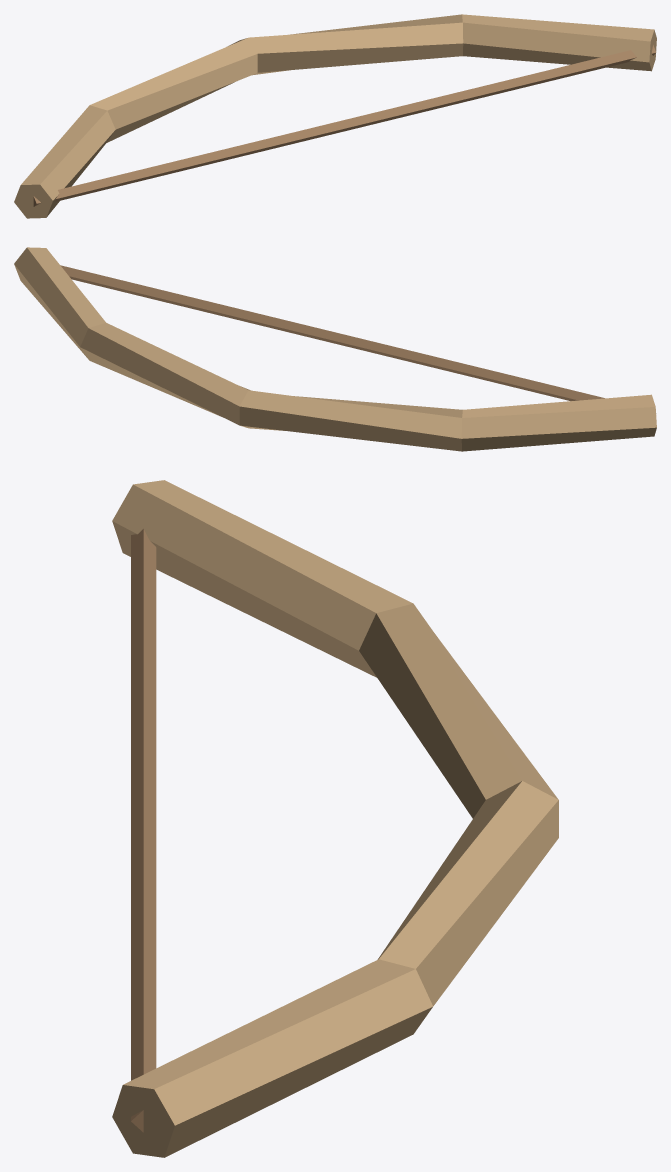
Rendered from item_099_composite_bow_s.glb.
The picture shows the model from 3 angles, top to bottom: view 1: azimuth 30°, elevation 25°; view 2: azimuth 150°, elevation 25°; view 3: azimuth 270°, elevation 25°; orthographic projection. The views are drawn at different scales.
Parts seen in each view (by area): view 1: item_099_composite_bow_s; view 2: item_099_composite_bow_s; view 3: item_099_composite_bow_s.
Part boxes in pixels (x1=…): item_099_composite_bow_s: x1=14, y1=14, x2=656, y2=218; item_099_composite_bow_s: x1=14, y1=247, x2=656, y2=451; item_099_composite_bow_s: x1=112, y1=480, x2=558, y2=1157.
Size of the model in its own units: 0.7056 by 0.04 by 0.2122.
